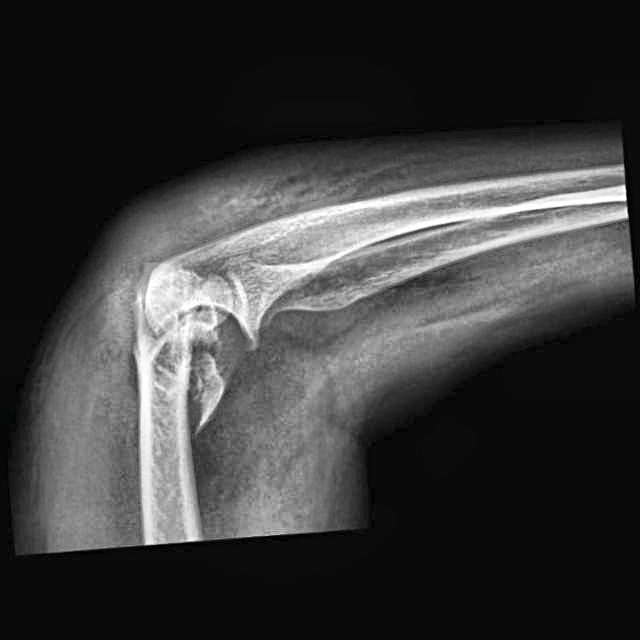Oblique Displaced: (146, 258, 261, 445)
